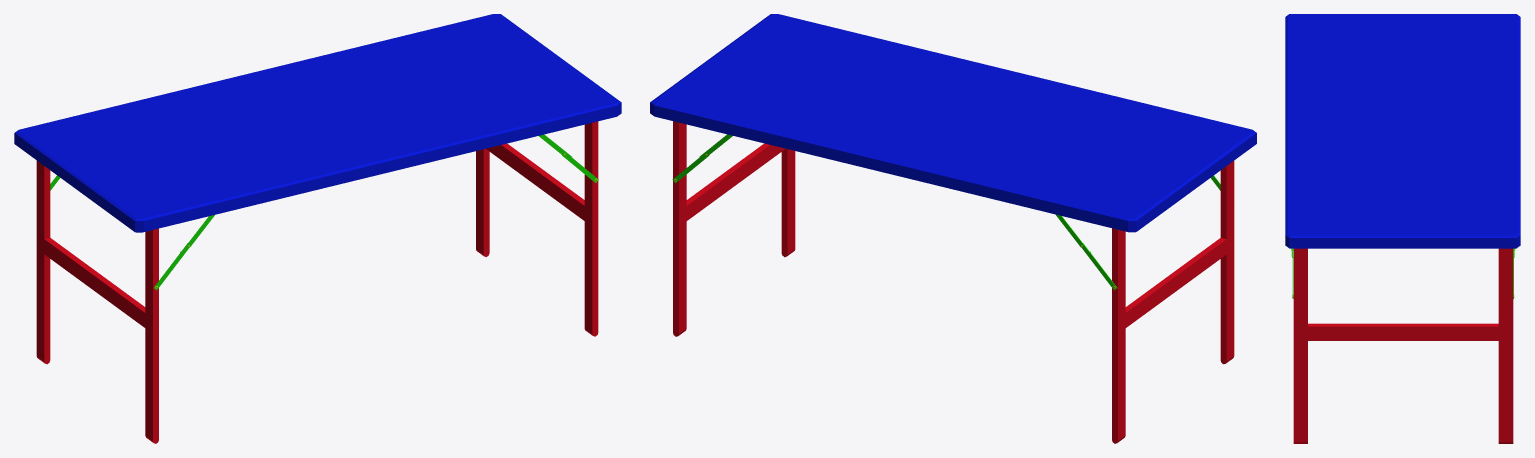
File: FoldingTable_001.fbx
3 views of the same model, side by side, from view 1: azimuth 30°, elevation 25°; view 2: azimuth 150°, elevation 25°; view 3: azimuth 270°, elevation 25° (orthographic). The views are drawn at different scales.
Parts seen in each view (by area): view 1: FoldingTable_001_low; view 2: FoldingTable_001_low; view 3: FoldingTable_001_low.
Part boxes in pixels (x1,y1,x2,y2): FoldingTable_001_low: [14, 14, 621, 443]; FoldingTable_001_low: [650, 14, 1256, 443]; FoldingTable_001_low: [1285, 14, 1520, 443].
Bounding box in the file's own units: 233 × 106 × 103.
